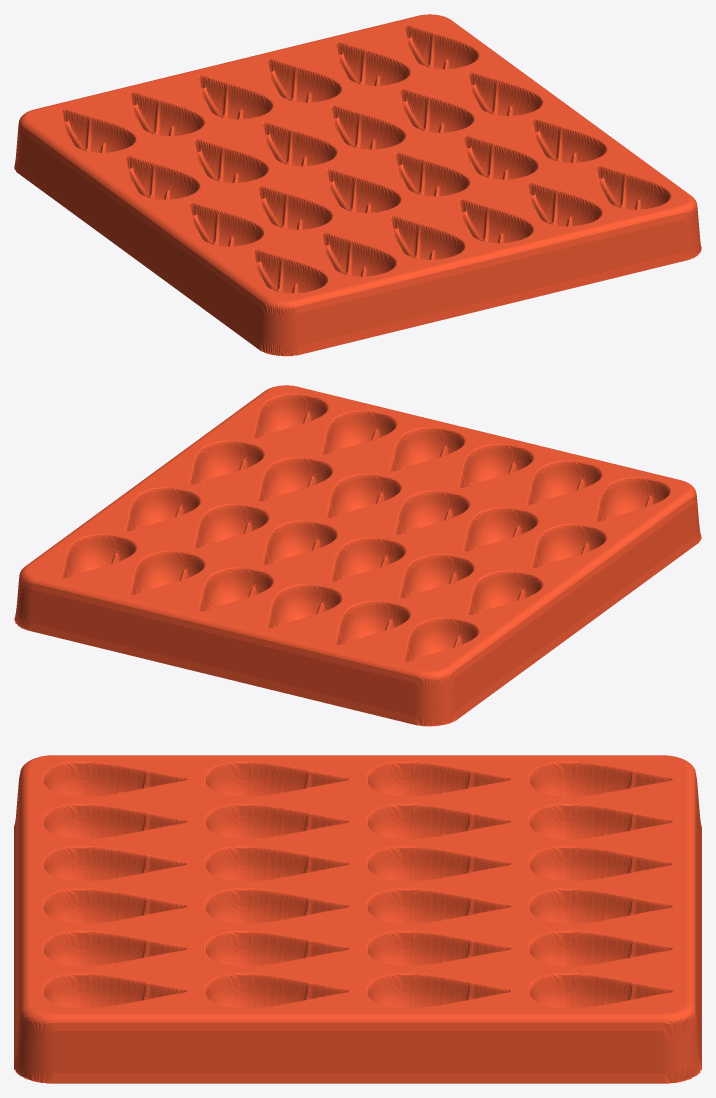
File: mold.glb
3 renders of one model, top to bottom at view 1: azimuth 30°, elevation 25°; view 2: azimuth 150°, elevation 25°; view 3: azimuth 270°, elevation 25°, orthographic. The views are drawn at different scales.
Visible parts, largest first — view 1: geometry_0; view 2: geometry_0; view 3: geometry_0.
Part boxes in pixels (box(x1,y1,x2,y2)): geometry_0: box(14, 14, 701, 356); geometry_0: box(14, 385, 701, 726); geometry_0: box(14, 755, 701, 1083).
Size of the model in its own units: 0.1455 by 0.0159 by 0.1561.
